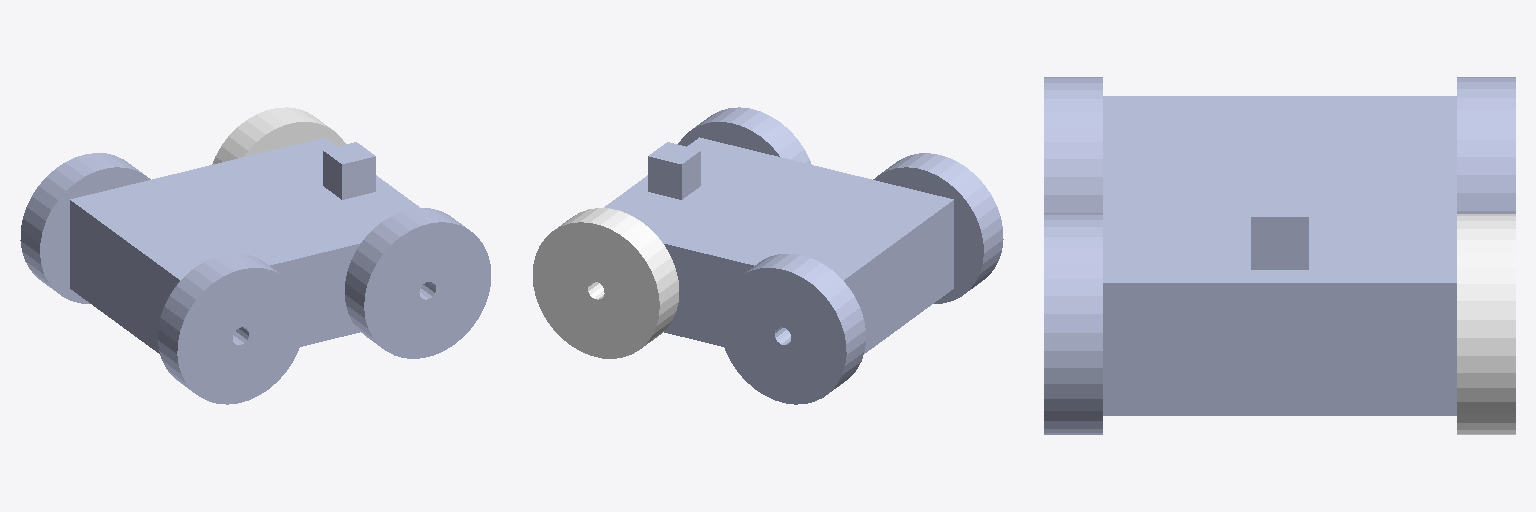
robot.urdf — robot1:
<?xml version="1.0" encoding="utf-8"?>
<!-- This URDF was automatically created by SolidWorks to URDF Exporter! Originally created by [author] ([email redacted]) 
     Commit Version: 1.5.1-0-g916b5db  Build Version: 1.5.7152.31018
     For more information, please see http://wiki.ros.org/sw_urdf_exporter -->
<robot
  name="robot1">
  <link
    name="base_link">
    <inertial>
      <origin
        xyz="0.00049485 1.5618E-17 0.025315"
        rpy="0 0 0" />
      <mass
        value="0.88915" />
      <inertia
        ixx="0.0012453"
        ixy="6.9394E-21"
        ixz="7.4576E-20"
        iyy="0.0018183"
        iyz="5.4641E-20"
        izz="0.0026883" />
    </inertial>
    <visual>
      <origin
        xyz="0 0 0"
        rpy="0 0 0" />
      <geometry>
        <mesh
          filename="package://robot1/meshes/base_link.STL" />
      </geometry>
      <material
        name="">
        <color
          rgba="0.79216 0.81961 0.93333 1" />
      </material>
    </visual>
    <collision>
      <origin
        xyz="0 0 0"
        rpy="0 0 0" />
      <geometry>
        <mesh
          filename="package://robot1/meshes/base_link.STL" />
      </geometry>
    </collision>
  </link>
  <link
    name="right_front_wheel">
    <inertial>
      <origin
        xyz="6.9389E-18 -3.4694E-18 -0.01"
        rpy="0 0 0" />
      <mass
        value="0.086786" />
      <inertia
        ixx="3.3946E-05"
        ixy="7.6818E-22"
        ixz="2.6384E-22"
        iyy="3.3946E-05"
        iyz="8.3921E-22"
        izz="6.2107E-05" />
    </inertial>
    <visual>
      <origin
        xyz="0 0 0"
        rpy="0 0 0" />
      <geometry>
        <mesh
          filename="package://robot1/meshes/right_front_wheel.STL" />
      </geometry>
      <material
        name="">
        <color
          rgba="0.79216 0.81961 0.93333 1" />
      </material>
    </visual>
    <collision>
      <origin
        xyz="0 0 0"
        rpy="0 0 0" />
      <geometry>
        <mesh
          filename="package://robot1/meshes/right_front_wheel.STL" />
      </geometry>
    </collision>
  </link>
  <joint
    name="right_front_wheel_joint"
    type="continuous">
    <origin
      xyz="0.055 -0.06 0.025"
      rpy="1.5708 0 3.1416" />
    <parent
      link="base_link" />
    <child
      link="right_front_wheel" />
    <axis
      xyz="0 0 1" />
  </joint>
  <link
    name="right_behind_wheel">
    <inertial>
      <origin
        xyz="-6.9389E-18 -6.9389E-18 -0.01"
        rpy="0 0 0" />
      <mass
        value="0.086786" />
      <inertia
        ixx="3.3946E-05"
        ixy="-9.3448E-22"
        ixz="-3.044E-22"
        iyy="3.3946E-05"
        iyz="-4.4116E-23"
        izz="6.2107E-05" />
    </inertial>
    <visual>
      <origin
        xyz="0 0 0"
        rpy="0 0 0" />
      <geometry>
        <mesh
          filename="package://robot1/meshes/right_behind_wheel.STL" />
      </geometry>
      <material
        name="">
        <color
          rgba="0.79216 0.81961 0.93333 1" />
      </material>
    </visual>
    <collision>
      <origin
        xyz="0 0 0"
        rpy="0 0 0" />
      <geometry>
        <mesh
          filename="package://robot1/meshes/right_behind_wheel.STL" />
      </geometry>
    </collision>
  </link>
  <joint
    name="right_behind_wheel_joint"
    type="continuous">
    <origin
      xyz="-0.055 -0.06 0.025"
      rpy="1.5708 0 3.1416" />
    <parent
      link="base_link" />
    <child
      link="right_behind_wheel" />
    <axis
      xyz="0 0 1" />
  </joint>
  <link
    name="left_behind_wheel">
    <inertial>
      <origin
        xyz="0 0 0.01"
        rpy="0 0 0" />
      <mass
        value="0.086786" />
      <inertia
        ixx="3.3946E-05"
        ixy="-2.7728E-21"
        ixz="2.4566E-22"
        iyy="3.3946E-05"
        iyz="8.7468E-22"
        izz="6.2107E-05" />
    </inertial>
    <visual>
      <origin
        xyz="0 0 0"
        rpy="0 0 0" />
      <geometry>
        <mesh
          filename="package://robot1/meshes/left_behind_wheel.STL" />
      </geometry>
      <material
        name="">
        <color
          rgba="0.79216 0.81961 0.93333 1" />
      </material>
    </visual>
    <collision>
      <origin
        xyz="0 0 0"
        rpy="0 0 0" />
      <geometry>
        <mesh
          filename="package://robot1/meshes/left_behind_wheel.STL" />
      </geometry>
    </collision>
  </link>
  <joint
    name="left_behind_wheel_joint"
    type="continuous">
    <origin
      xyz="-0.055 0.06 0.025"
      rpy="1.5708 0 3.1416" />
    <parent
      link="base_link" />
    <child
      link="left_behind_wheel" />
    <axis
      xyz="0 0 1" />
  </joint>
  <link
    name="left_front_wheel">
    <inertial>
      <origin
        xyz="0 0 0"
        rpy="0 0 0" />
      <mass
        value="0" />
      <inertia
        ixx="0"
        ixy="0"
        ixz="0"
        iyy="0"
        iyz="0"
        izz="0" />
    </inertial>
    <visual>
      <origin
        xyz="0 0 0"
        rpy="0 0 0" />
      <geometry>
        <mesh
          filename="package://robot1/meshes/left_front_wheel.STL" />
      </geometry>
      <material
        name="">
        <color
          rgba="1 1 1 1" />
      </material>
    </visual>
    <collision>
      <origin
        xyz="0 0 0"
        rpy="0 0 0" />
      <geometry>
        <mesh
          filename="package://robot1/meshes/left_front_wheel.STL" />
      </geometry>
    </collision>
  </link>
  <joint
    name="left_front_wheel_joint"
    type="continuous">
    <origin
      xyz="0.055 0.06 0.025"
      rpy="1.5708 0 3.1416" />
    <parent
      link="base_link" />
    <child
      link="left_front_wheel" />
    <axis
      xyz="0 0 1" />
  </joint>
</robot>

--- What the picture shows (computed from the rendered views, not written in the file) ---
3 views of the same robot in one strip: view 1: azimuth 30°, elevation 25°; view 2: azimuth 150°, elevation 25°; view 3: azimuth 270°, elevation 25° (orthographic).
Robot: robot1 — 5 links, 4 joints (4 continuous); root link base_link; default pose: every joint at zero.
Visible links, largest first — view 1: base_link, right_front_wheel, right_behind_wheel, left_behind_wheel, left_front_wheel; view 2: base_link, left_front_wheel, left_behind_wheel, right_behind_wheel, right_front_wheel; view 3: base_link, right_front_wheel, left_front_wheel, right_behind_wheel, left_behind_wheel.
Link boxes in pixels (left/top/right/bottom): base_link: left=70, top=137, right=419, bottom=353; right_front_wheel: left=345, top=208, right=490, bottom=358; right_behind_wheel: left=158, top=253, right=304, bottom=404; left_behind_wheel: left=20, top=153, right=150, bottom=303; left_front_wheel: left=212, top=107, right=345, bottom=164; base_link: left=604, top=137, right=953, bottom=353; left_front_wheel: left=533, top=208, right=678, bottom=358; left_behind_wheel: left=719, top=254, right=865, bottom=404; right_behind_wheel: left=873, top=153, right=1003, bottom=303; right_front_wheel: left=678, top=107, right=811, bottom=164; base_link: left=1103, top=96, right=1456, bottom=415; right_front_wheel: left=1044, top=214, right=1102, bottom=434; left_front_wheel: left=1457, top=214, right=1515, bottom=434; right_behind_wheel: left=1044, top=77, right=1102, bottom=213; left_behind_wheel: left=1457, top=77, right=1515, bottom=213.
Bounding box of the posed robot: 0.185 × 0.16 × 0.0825 m (x, y, z).
5 mesh visuals loaded from 5 distinct referenced files (5 binary STL).